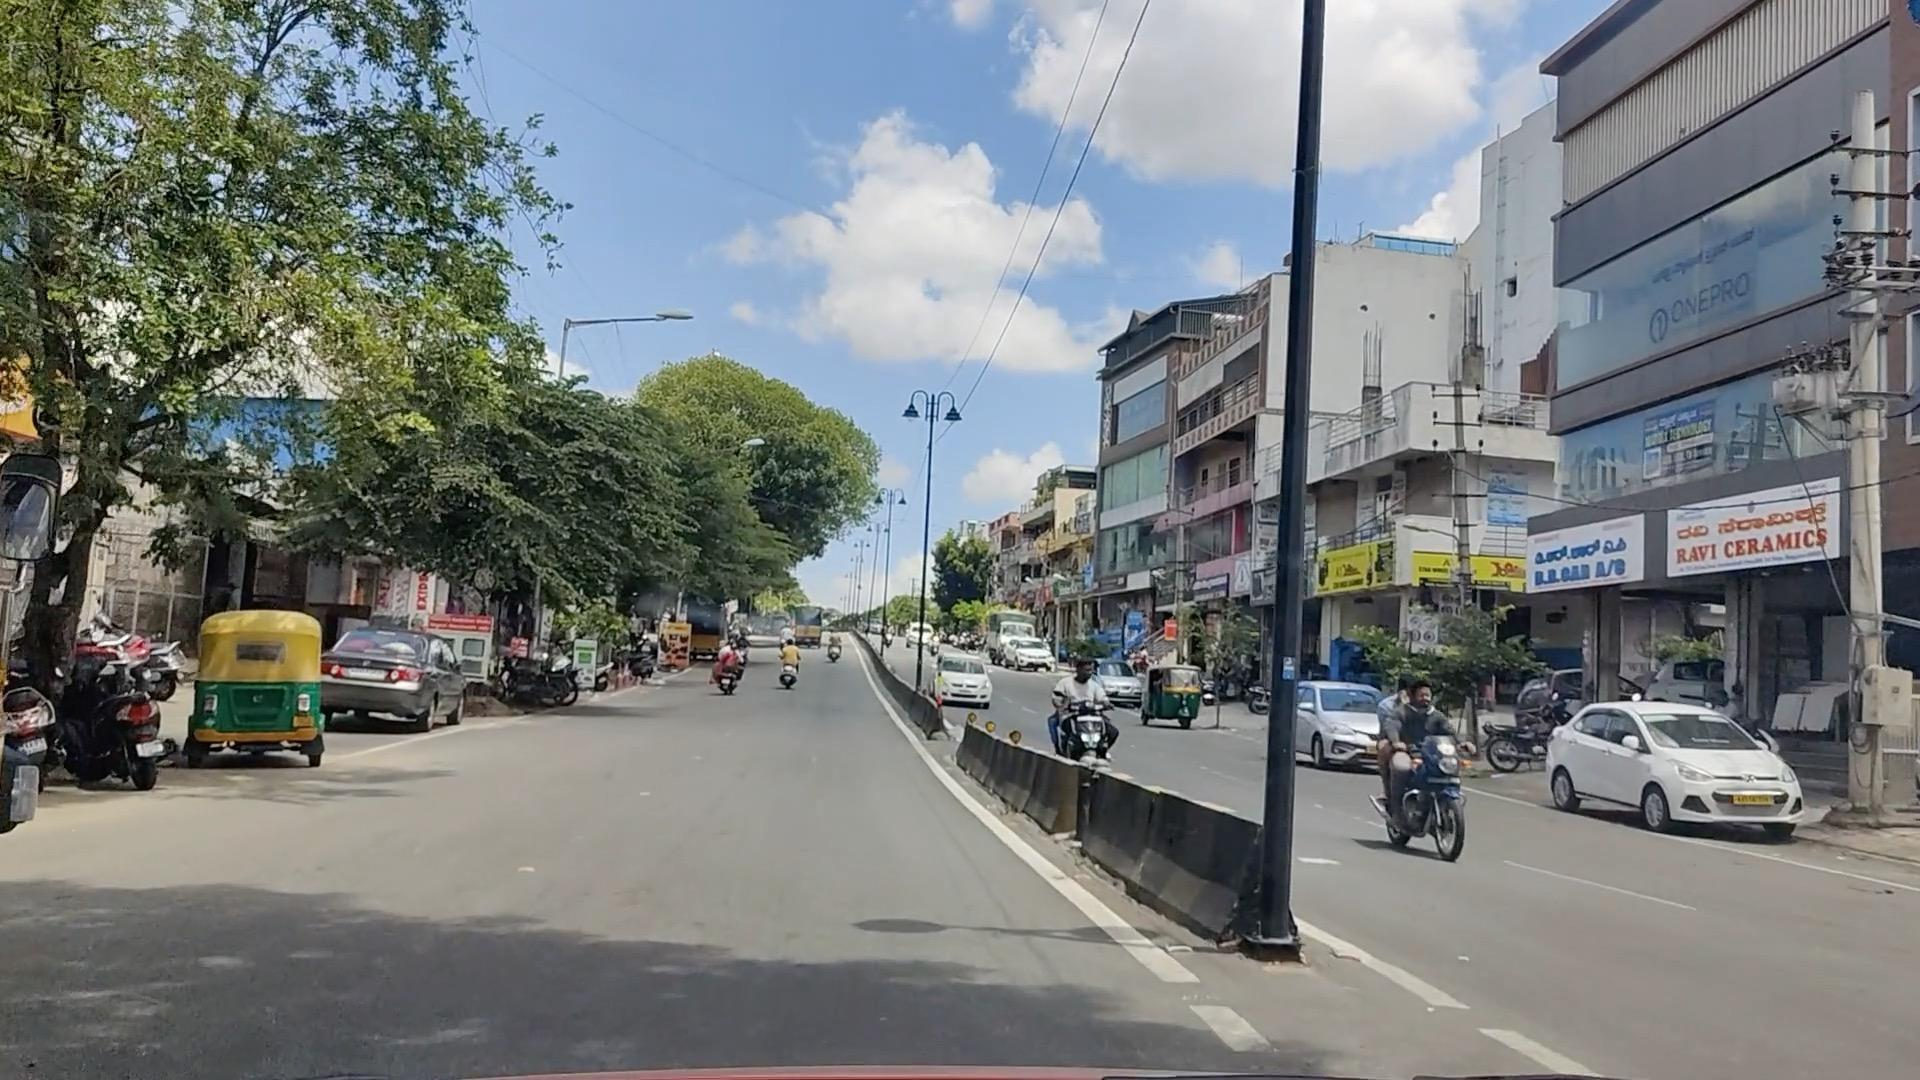LMV: (203, 611, 322, 753), (324, 611, 463, 723), (709, 626, 764, 696), (765, 630, 810, 690)
